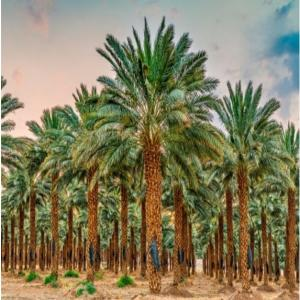palm tree: (92, 14, 223, 294), (206, 78, 290, 293)
